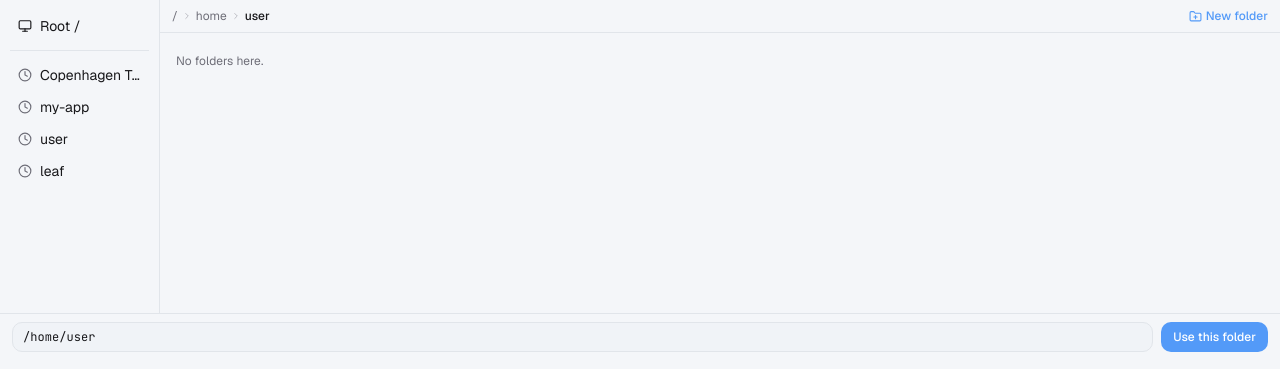
Test: FolderBrowserPanel › shows a mkdir error inline instead of a toast, and does not select
Click the button "New folder": (1228, 16) [1189, 8, 1268, 24]
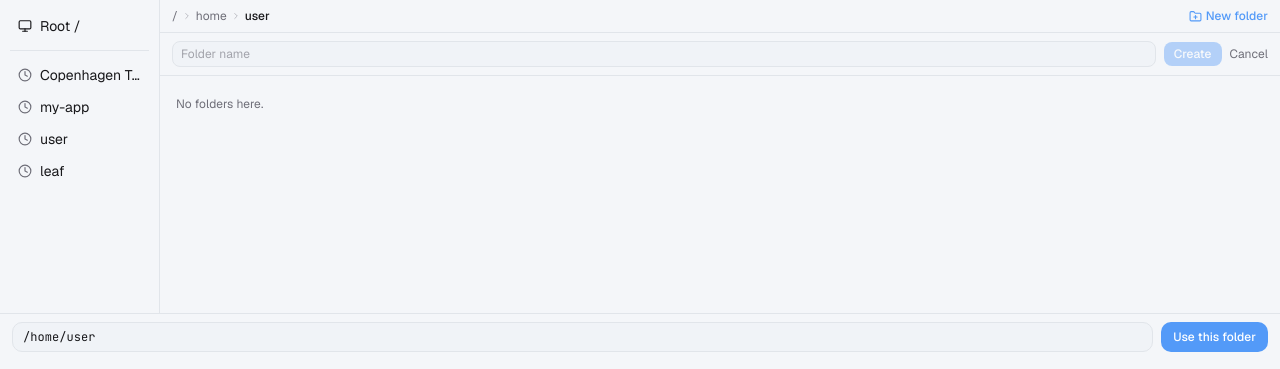
In the field with placeholder "Folder name": (664, 54) [172, 41, 1156, 67], type "dup"
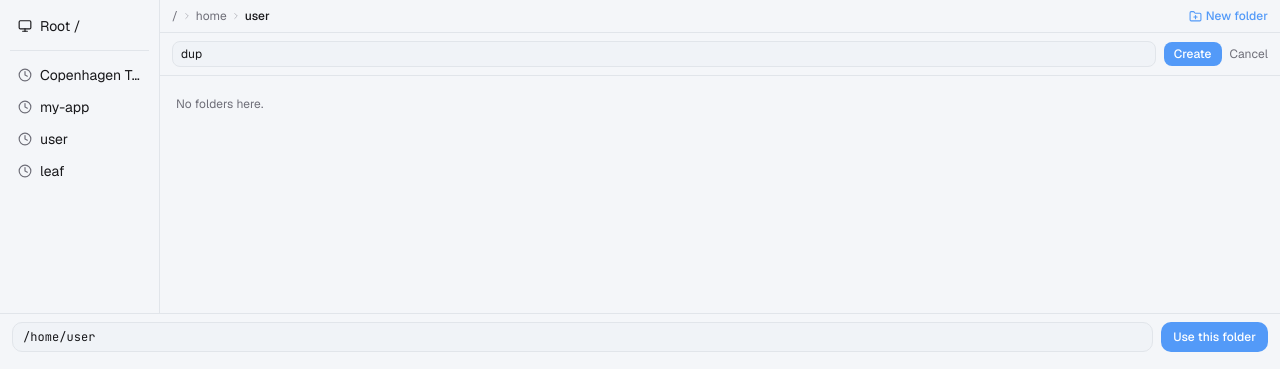
Click the button "Create": (1193, 54) [1164, 42, 1222, 66]
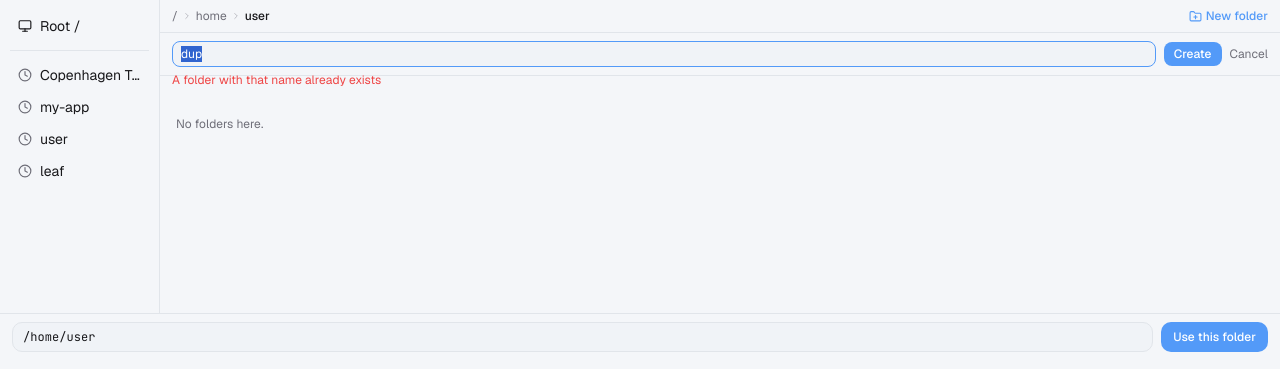
Result: the text "A folder with that name already exists" is shown at [172, 72, 381, 88]
